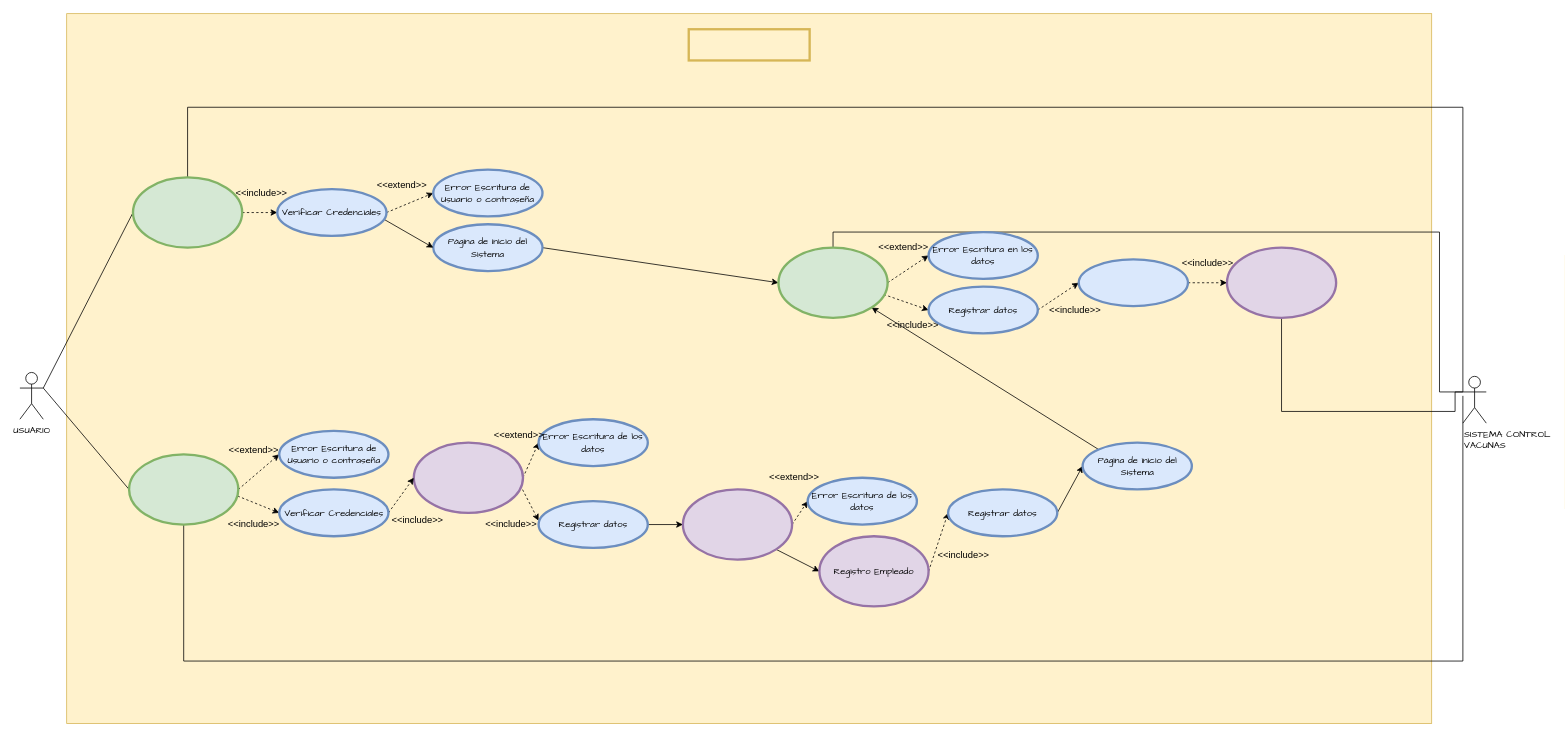
Image size: 1565x737. Some labels were removed from this diagram. The shapes that lost their labels are listed below. From the top down, each one's centre as x and y in pixels, then its label:
At pixel 748 44: "Sistema de control de vacunas".
At pixel 187 212: "Iniciar Gestor".
At pixel 832 282: "Registrar cita primera dosis".
At pixel 1133 282: "Visualizar datos".
At pixel 1281 282: "Registrar cita segunda dosis".
At pixel 183 489: "Registrar Gestor".
At pixel 468 477: "Registrar Cabina".
At pixel 737 524: "Inicio Sesión de empleado".
